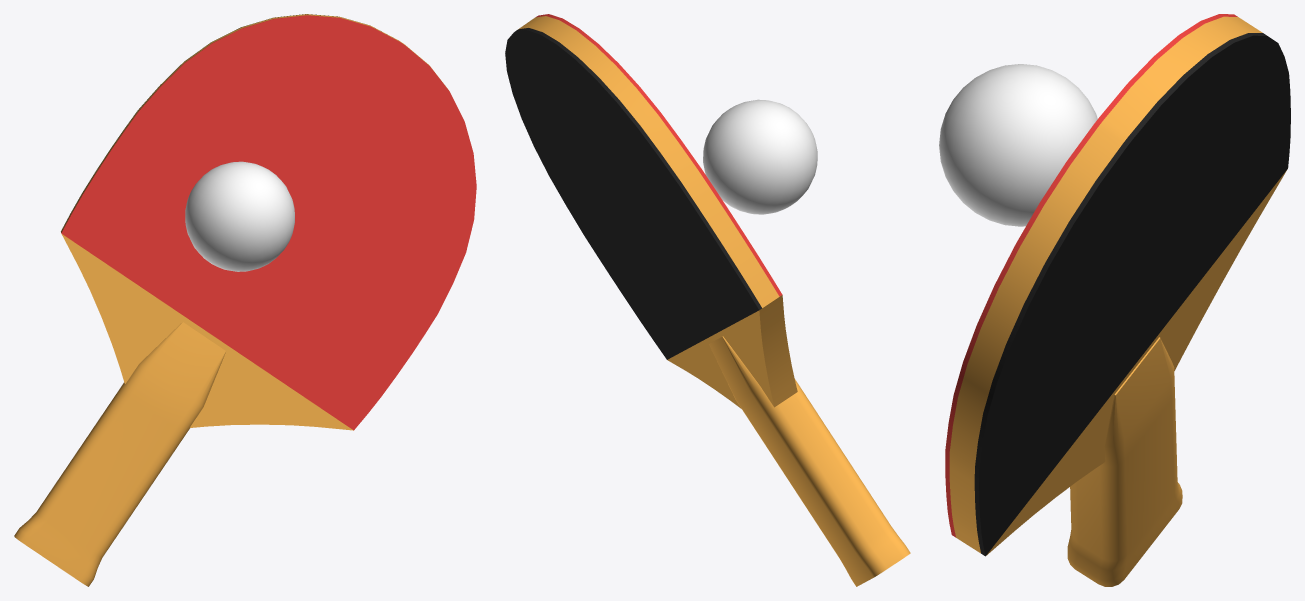
File: ping_pong.glb
3 views of the same model, side by side, from view 1: azimuth 30°, elevation 25°; view 2: azimuth 150°, elevation 25°; view 3: azimuth 270°, elevation 25° (orthographic). The views are drawn at different scales.
Parts seen in each view (by area): view 1: Cube.822; view 2: Cube.822; view 3: Cube.822.
Boxes of the visible parts, left/top/right/bottom form: Cube.822: left=14, top=14, right=476, bottom=586; Cube.822: left=505, top=14, right=910, bottom=586; Cube.822: left=939, top=14, right=1290, bottom=586.
Size of the model in its own units: 2.07 by 2.33 by 1.02.
1 material, 1 textured.
